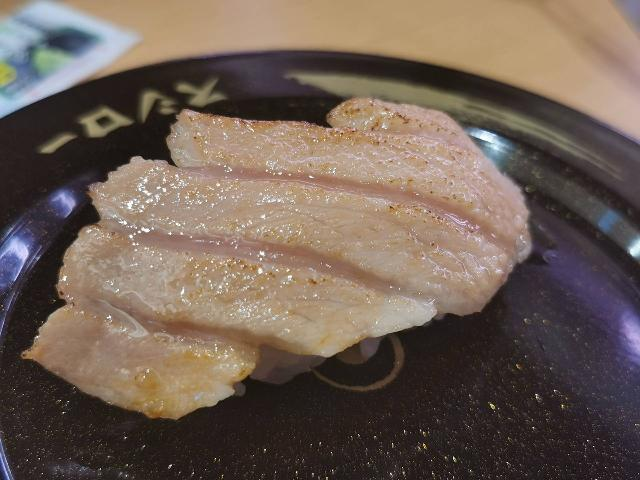janback: (536, 93, 640, 480), (0, 418, 559, 480), (197, 38, 529, 107), (0, 88, 61, 306), (72, 49, 165, 145)
